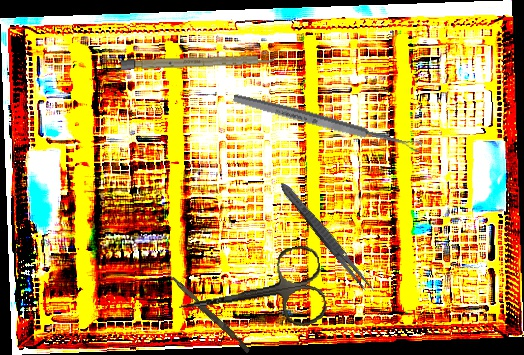Dressing Forceps: (275, 179, 379, 297)
Iris Scissors: (172, 243, 329, 345)
Pusher: (164, 272, 253, 354)
Scalpel Handle: (120, 54, 277, 70)
Surgical Spoon: (232, 91, 423, 155)
